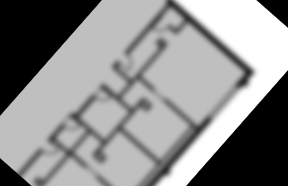door: (161, 0, 257, 78), (117, 51, 139, 73), (92, 86, 114, 108), (62, 114, 84, 136), (39, 139, 61, 161)
double door: (233, 64, 259, 92)
wall: (126, 114, 214, 186), (123, 122, 198, 186), (90, 94, 148, 159), (117, 41, 170, 99), (37, 130, 91, 186), (123, 2, 172, 57), (116, 125, 164, 169), (67, 110, 107, 147), (161, 97, 201, 133), (98, 81, 135, 114), (17, 147, 44, 177), (73, 94, 97, 119), (91, 173, 137, 186), (110, 64, 132, 83), (46, 123, 65, 144), (137, 74, 157, 93), (51, 136, 71, 155), (69, 151, 88, 169), (175, 18, 190, 35)
window: (204, 82, 242, 123), (150, 17, 170, 37)
